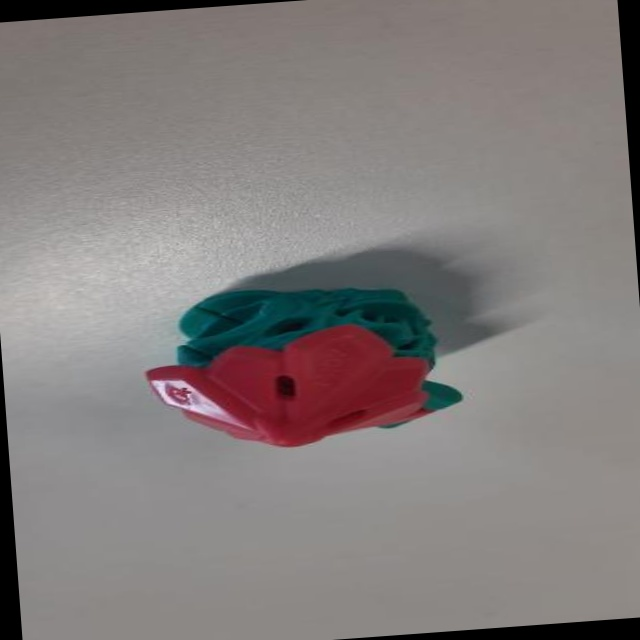House: (129, 257, 475, 461)
